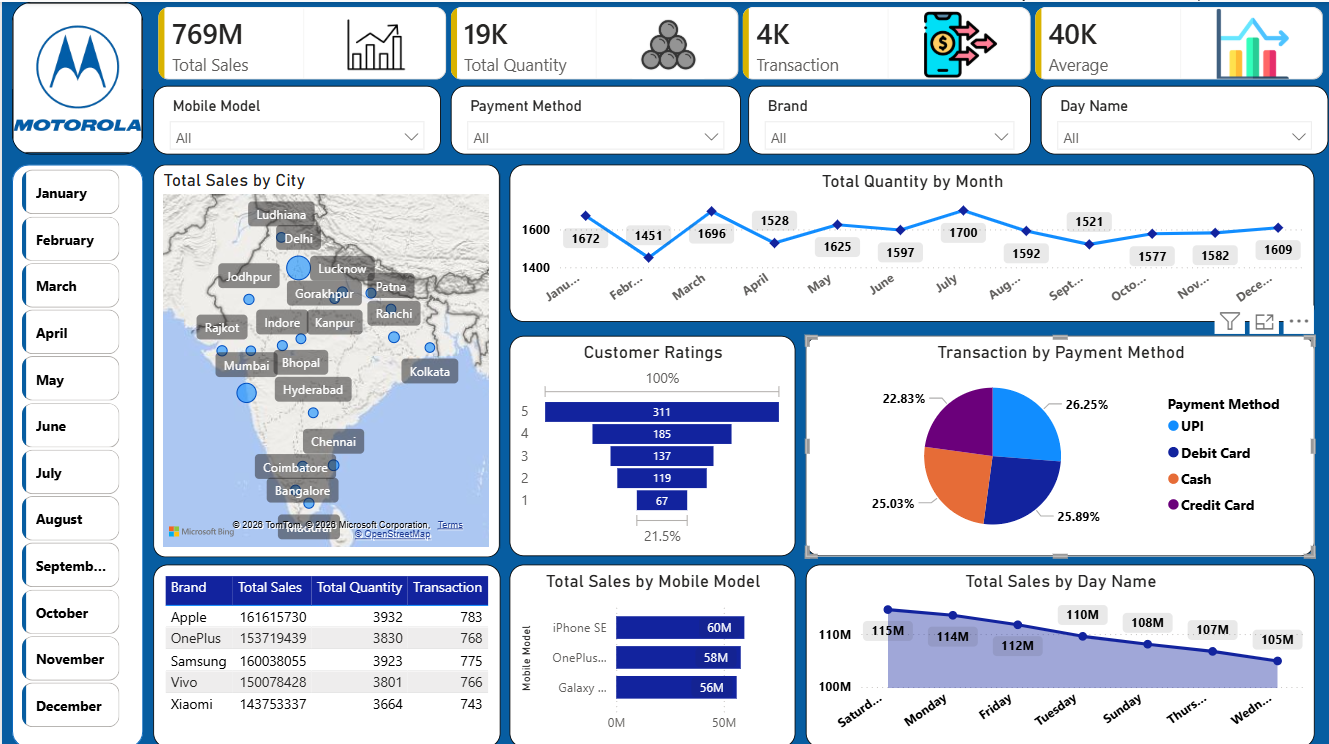

The dashboard page shown, as its layout file describes it:
{"tool":"powerbi","page":{"name":"Page 1","canvas":[1280,720],"ordinal":0},"visuals":[{"type":"image","box":[9.7,0,126.7,147.2],"z":0},{"type":"shape","box":[9.7,156.8,126.7,563.4],"z":1000},{"type":"advancedSlicerVisual","fields":{"Values":["Sales_Data.Date.Variation.Date Hierarchy.Month"]},"box":[14.5,156.8,117,555],"z":2000},{"type":"cardVisual","fields":{"Data":["Sales_Data.Total Sales","Sales_Data.Total Quantity","Sales_Data.Transaction","Sales_Data.Average"]},"box":[146,0,1134.1,80.8],"z":3000},{"type":"map","fields":{"Category":["Sales_Data.City"],"Size":["Sales_Data.Total Sales"]},"box":[146,156.8,334.2,378.8],"z":4000},{"type":"lineChart","fields":{"Category":["Sales_Data.Date.Variation.Date Hierarchy.Month","Sales_Data.Date.Variation.Date Hierarchy.Day"],"Y":["Sales_Data.Total Quantity"]},"box":[489.8,156.8,776.9,152],"z":5000},{"type":"clusteredBarChart","fields":{"Category":["Sales_Data.Mobile Model"],"Y":["Sales_Data.Total Sales"]},"box":[489.9,543.4,275.8,177],"z":6000},{"type":"pieChart","fields":{"Category":["Sales_Data.Payment Method"],"Y":["Sales_Data.Transaction"]},"box":[775.3,322.5,491.3,212.7],"z":7000},{"type":"funnel","title":"Customer Ratings ","fields":{"Category":["Sales_Data.Customer Ratings"],"Y":["CountNonNull(Sales_Data.Customer Ratings)"]},"box":[489.9,322.5,275.8,212.7],"z":8000},{"type":"areaChart","fields":{"Category":["Sales_Data.Day Name"],"Y":["Sales_Data.Total Sales"]},"box":[775.3,543.4,491.3,177],"z":9000},{"type":"tableEx","fields":{"Values":["Sales_Data.Brand","Sales_Data.Total Sales","Sales_Data.Total Quantity","Sales_Data.Transaction"]},"box":[145.5,543.4,334.8,177],"z":10000},{"type":"slicer","fields":{"Values":["Sales_Data.Mobile Model"]},"box":[146,80.8,277.5,66.4],"z":12000},{"type":"slicer","fields":{"Values":["Sales_Data.Payment Method"]},"box":[433.1,80.8,279.9,66.4],"z":13000},{"type":"slicer","fields":{"Values":["Sales_Data.Brand"]},"box":[720.2,80.8,272.7,66.4],"z":14000},{"type":"slicer","fields":{"Values":["Sales_Data.Day Name"]},"box":[1002.6,80.8,277.5,66.4],"z":15000}]}

Visuals, with their boxes in screenshot pixels (x1, y1, x2, y2), scaled from the page's 1280x720 canvas onto the 1329x744 screenshot:
image: pyautogui.locateOnScreen(10, 0, 142, 152)
shape: pyautogui.locateOnScreen(10, 162, 142, 743)
advancedSlicerVisual - Sales_Data.Date.Variation.Date Hierarchy.Month: pyautogui.locateOnScreen(15, 162, 137, 736)
cardVisual - Sales_Data.Total Sales x Sales_Data.Total Quantity: pyautogui.locateOnScreen(152, 0, 1328, 83)
map - Sales_Data.City x Sales_Data.Total Sales: pyautogui.locateOnScreen(152, 162, 499, 553)
lineChart - Sales_Data.Date.Variation.Date Hierarchy.Month x Sales_Data.Date.Variation.Date Hierarchy.Day: pyautogui.locateOnScreen(509, 162, 1315, 319)
clusteredBarChart - Sales_Data.Mobile Model x Sales_Data.Total Sales: pyautogui.locateOnScreen(509, 562, 795, 743)
pieChart - Sales_Data.Payment Method x Sales_Data.Transaction: pyautogui.locateOnScreen(805, 333, 1315, 553)
"Customer Ratings " funnel: pyautogui.locateOnScreen(509, 333, 795, 553)
areaChart - Sales_Data.Day Name x Sales_Data.Total Sales: pyautogui.locateOnScreen(805, 562, 1315, 743)
tableEx - Sales_Data.Brand x Sales_Data.Total Sales: pyautogui.locateOnScreen(151, 562, 499, 743)
slicer - Sales_Data.Mobile Model: pyautogui.locateOnScreen(152, 83, 440, 152)
slicer - Sales_Data.Payment Method: pyautogui.locateOnScreen(450, 83, 740, 152)
slicer - Sales_Data.Brand: pyautogui.locateOnScreen(748, 83, 1031, 152)
slicer - Sales_Data.Day Name: pyautogui.locateOnScreen(1041, 83, 1328, 152)
